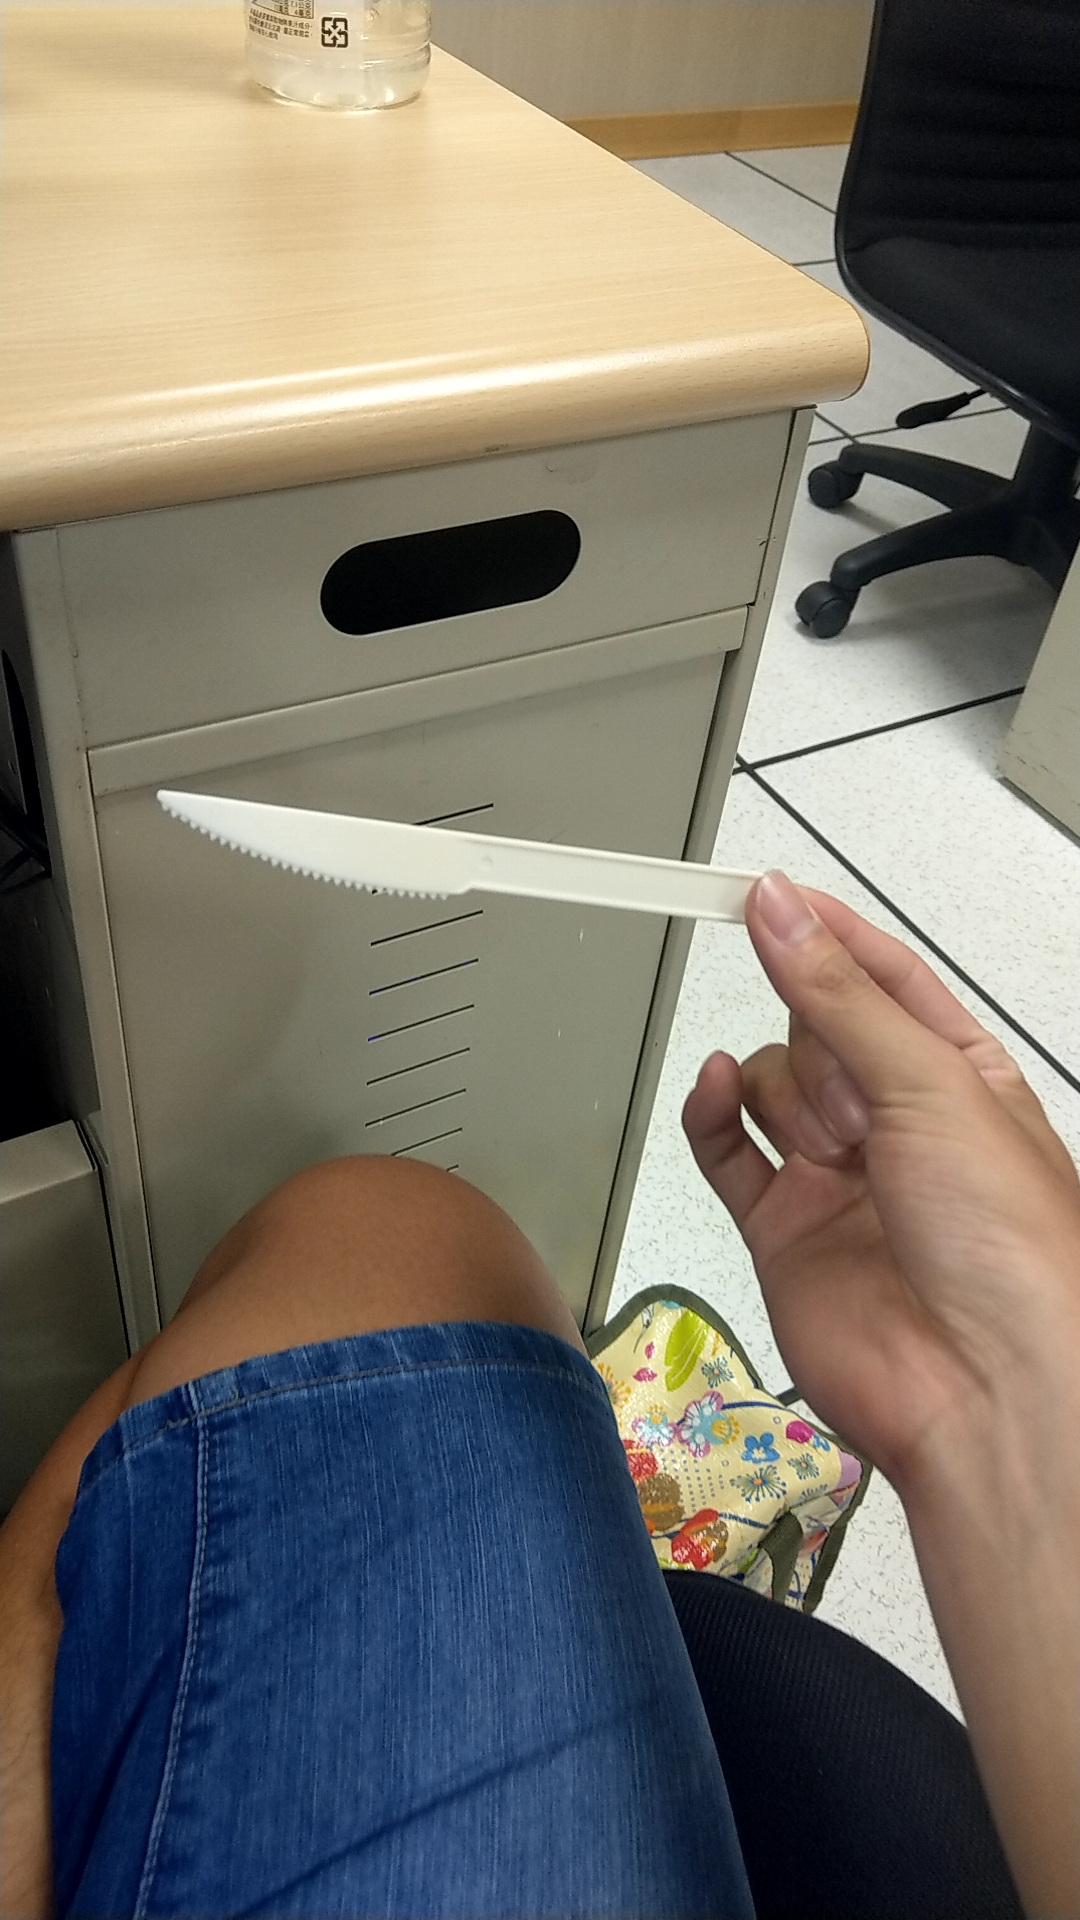knife: (111, 761, 775, 949)
